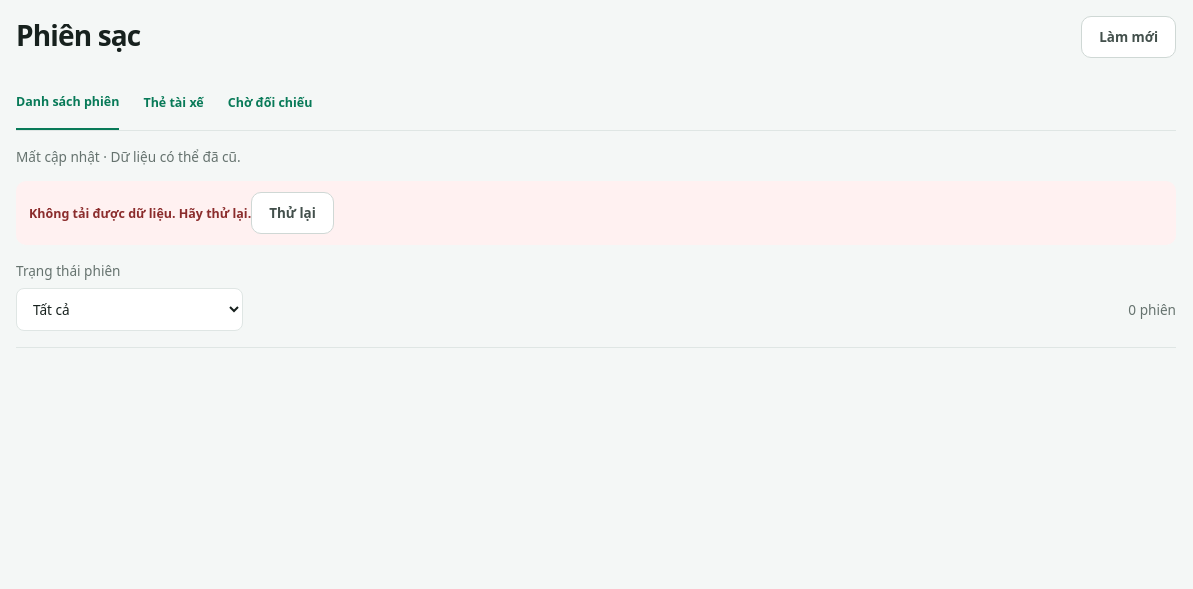
ChargingSessionsPage › retries loading errors and aborts pending requests on unmount
Check: the message "Không tải được dữ liệu. Hãy thử lại. Thử lại" is shown, box [16,181,1176,245]
Click the button "Thử lại".
click(292, 213)  # box [251,192,334,234]
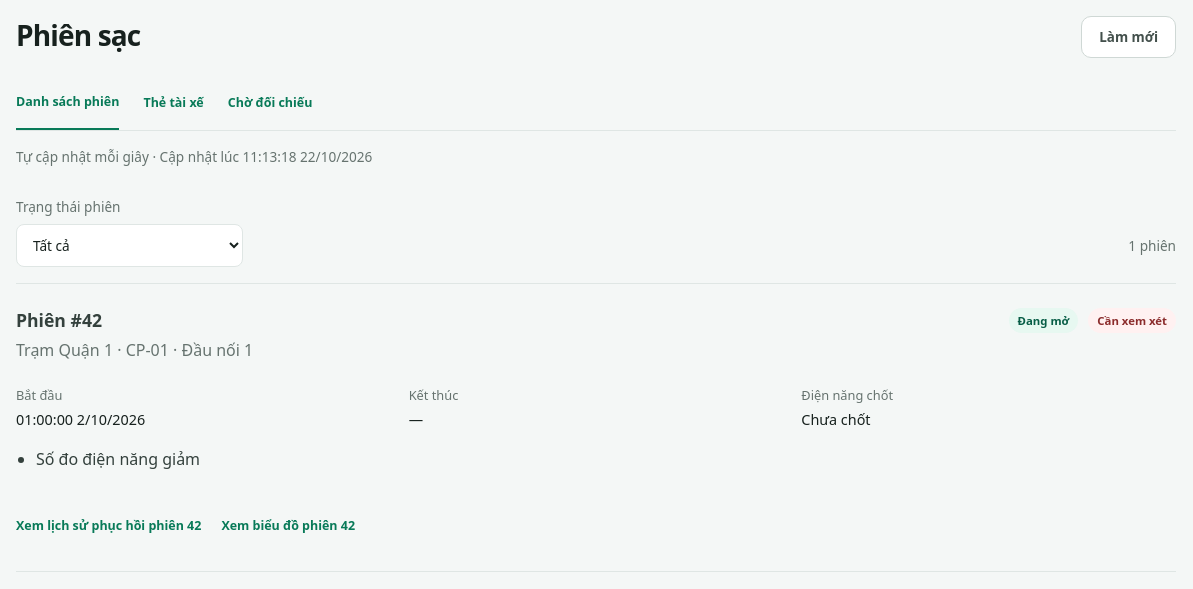
Check: the heading "Phiên #42" is shown, box [16,308,102,332]
